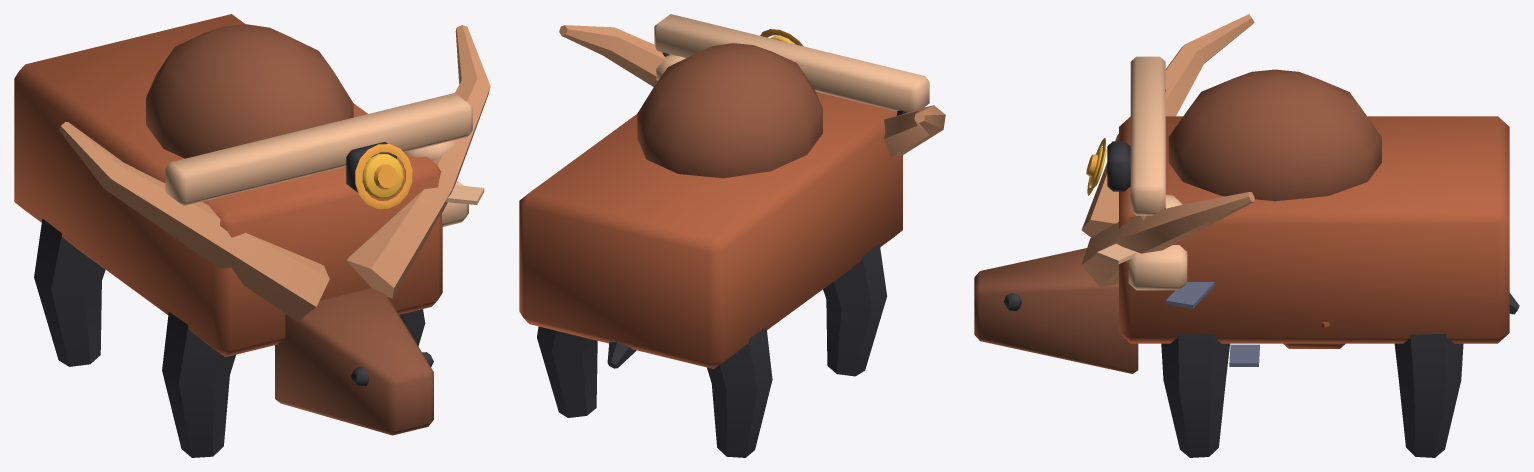
Rendered from yoke_ox.glb.
3 renders of one model, left to right at view 1: azimuth 30°, elevation 25°; view 2: azimuth 150°, elevation 25°; view 3: azimuth 270°, elevation 25°, orthographic. The views are drawn at different scales.
Parts seen in each view (by area): view 1: YokeOx; view 2: YokeOx; view 3: YokeOx.
Part boxes in pixels (x1,y1,x2,y2): YokeOx: [14, 14, 490, 457]; YokeOx: [519, 14, 945, 457]; YokeOx: [974, 14, 1519, 457].
Size of the model in its own units: 3.54 by 3 by 4.47.
Materials: 1 (1 with a texture image).
